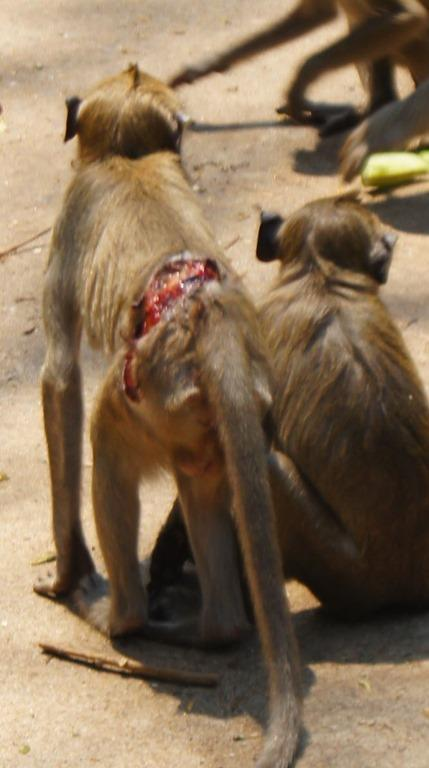cut: (111, 247, 231, 388)
